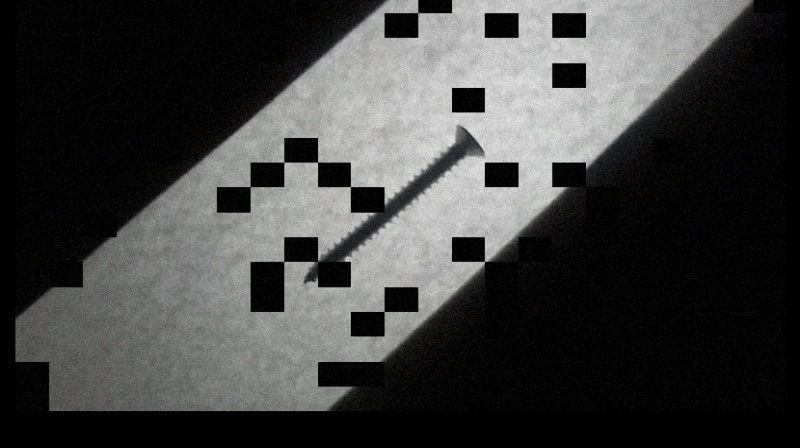S002: (301, 122, 490, 287)
